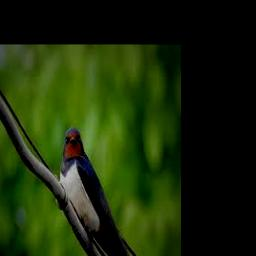Swallow: (59, 126, 160, 256)
